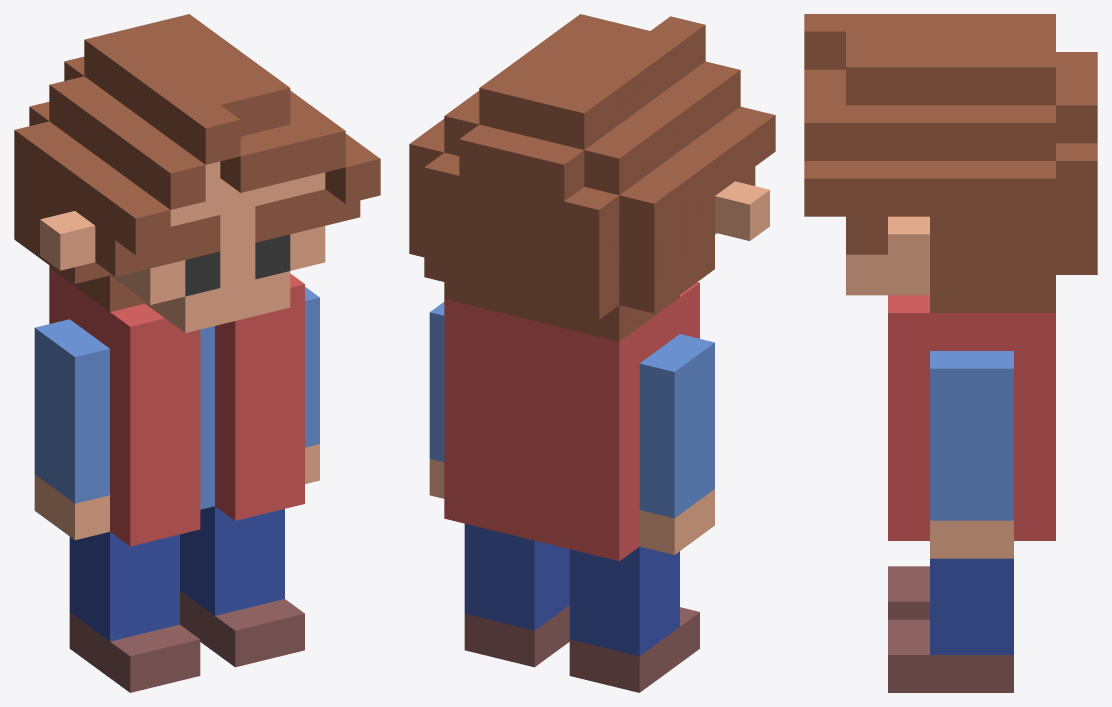
Rendered from persona1.vox.obj.
The picture shows the model from 3 angles, left to right: view 1: azimuth 30°, elevation 25°; view 2: azimuth 150°, elevation 25°; view 3: azimuth 270°, elevation 25°; orthographic projection. The views are drawn at different scales.
Size of the model in its own units: 0.9 by 1.6 by 0.7.
Materials: 1 (1 with a texture image).
